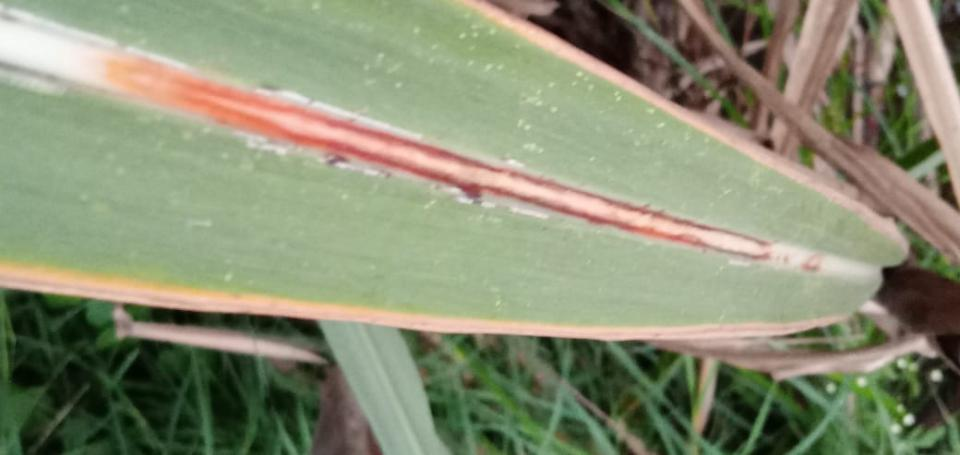RedRot: (104, 59, 774, 261), (803, 251, 825, 272)
Yellow: (0, 251, 576, 330)
